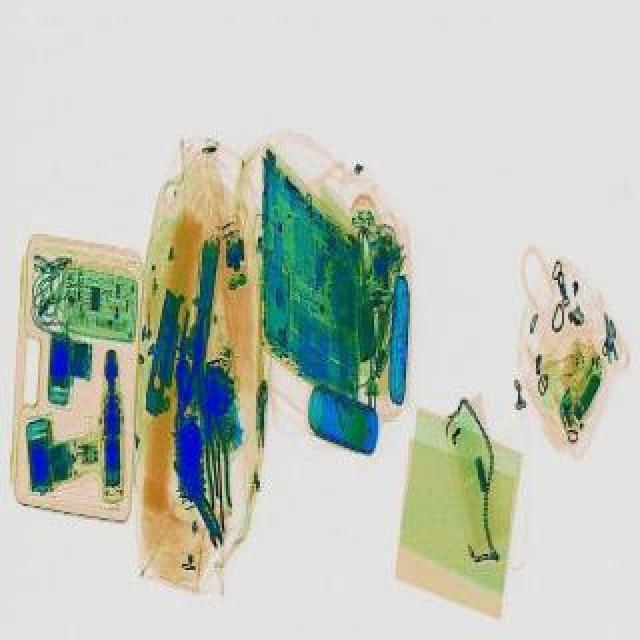scissors: (186, 482, 226, 544)
wrench: (196, 376, 232, 504)
